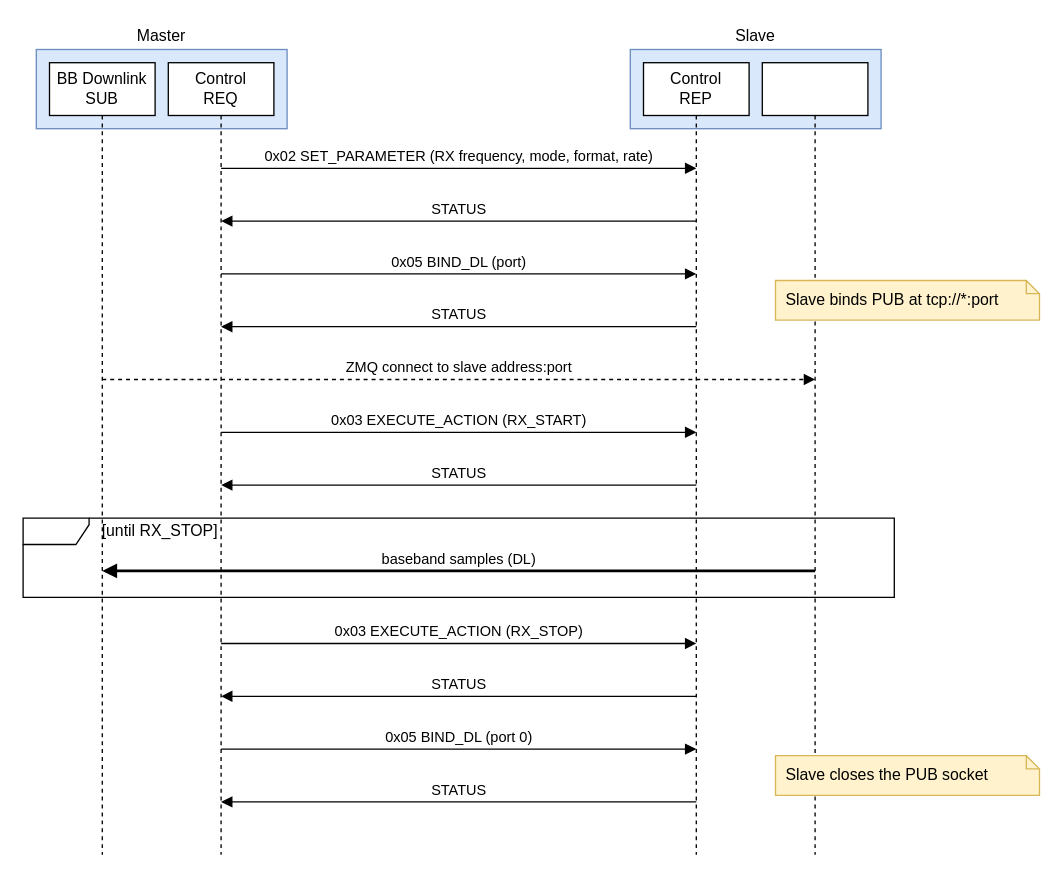
This 1063x878 diagram has some shape labels left out. Each missing label, with the box of its shape:
BB Downlink PUB: (761, 61, 868, 855)
loop: (22, 517, 894, 597)
